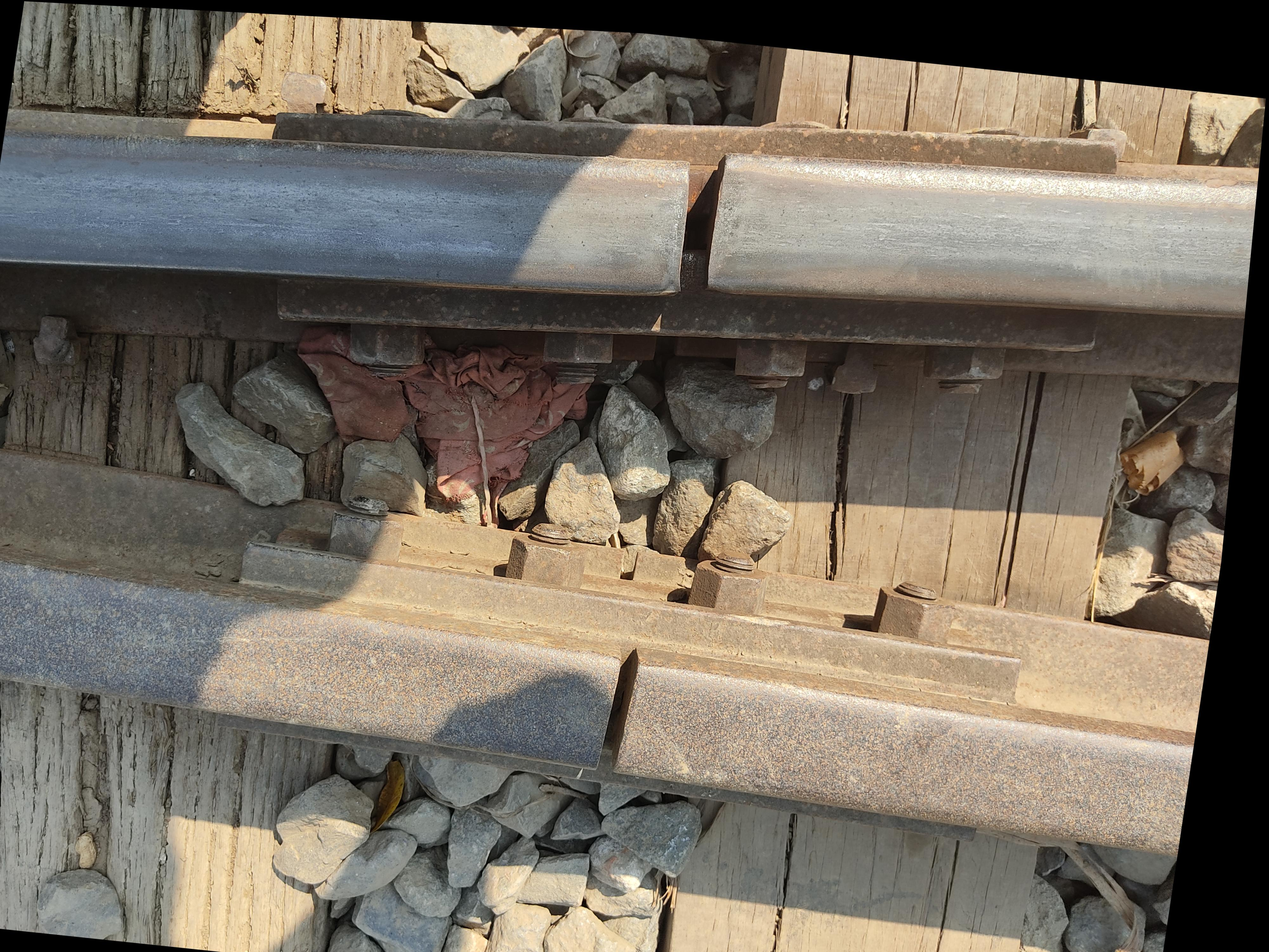person: (226, 753, 328, 858), (272, 512, 357, 605), (264, 717, 301, 749)
